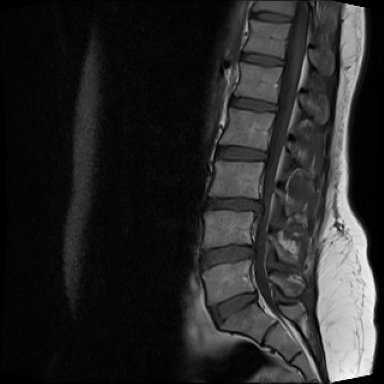Lumbar Disc Bulge (LDB): (197, 284, 261, 333), (195, 237, 261, 277), (198, 192, 270, 217)
Normal IVD: (208, 140, 271, 165), (232, 46, 287, 71), (220, 95, 281, 116), (245, 8, 297, 27)
Spinal Stenosis (SS): (238, 237, 262, 266), (248, 192, 271, 220), (248, 285, 266, 309)
